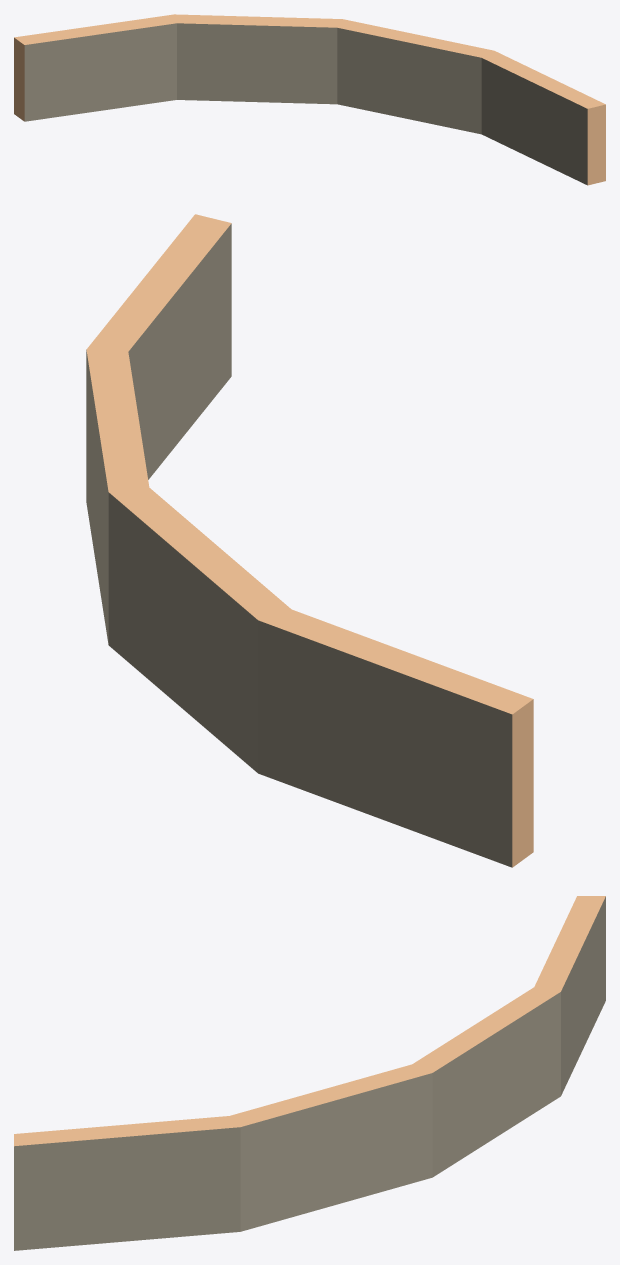
File: Tiered_Retaining_Wall_Flat_Curve_5x5_Mid.glb
3 renders of one model, top to bottom at view 1: azimuth 30°, elevation 25°; view 2: azimuth 150°, elevation 25°; view 3: azimuth 270°, elevation 25°, orthographic. The views are drawn at different scales.
Parts seen in each view (by area): view 1: Tiered_Retaining_Wall_Flat_Curve_5x5_Mid; view 2: Tiered_Retaining_Wall_Flat_Curve_5x5_Mid; view 3: Tiered_Retaining_Wall_Flat_Curve_5x5_Mid.
Part boxes in pixels (left/top/right/bottom): Tiered_Retaining_Wall_Flat_Curve_5x5_Mid: left=14, top=14, right=605, bottom=185; Tiered_Retaining_Wall_Flat_Curve_5x5_Mid: left=86, top=214, right=533, bottom=867; Tiered_Retaining_Wall_Flat_Curve_5x5_Mid: left=14, top=896, right=605, bottom=1250.
Bounding box in the file's own units: 512 × 100 × 512.
